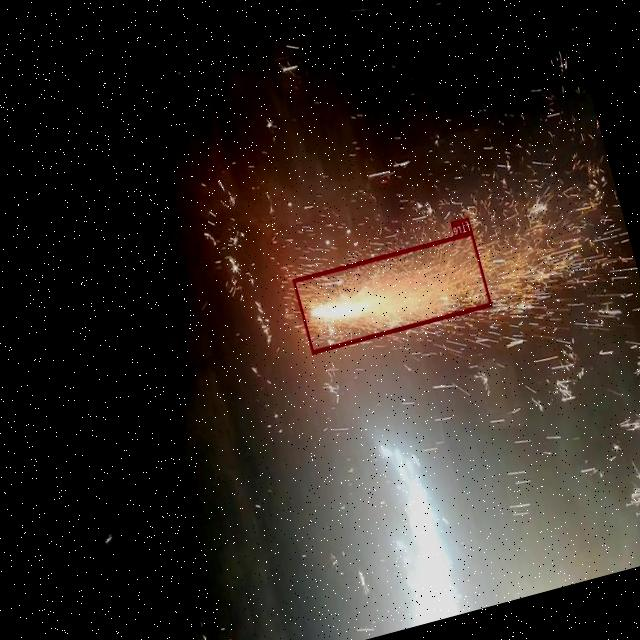fire: (292, 230, 492, 352)
